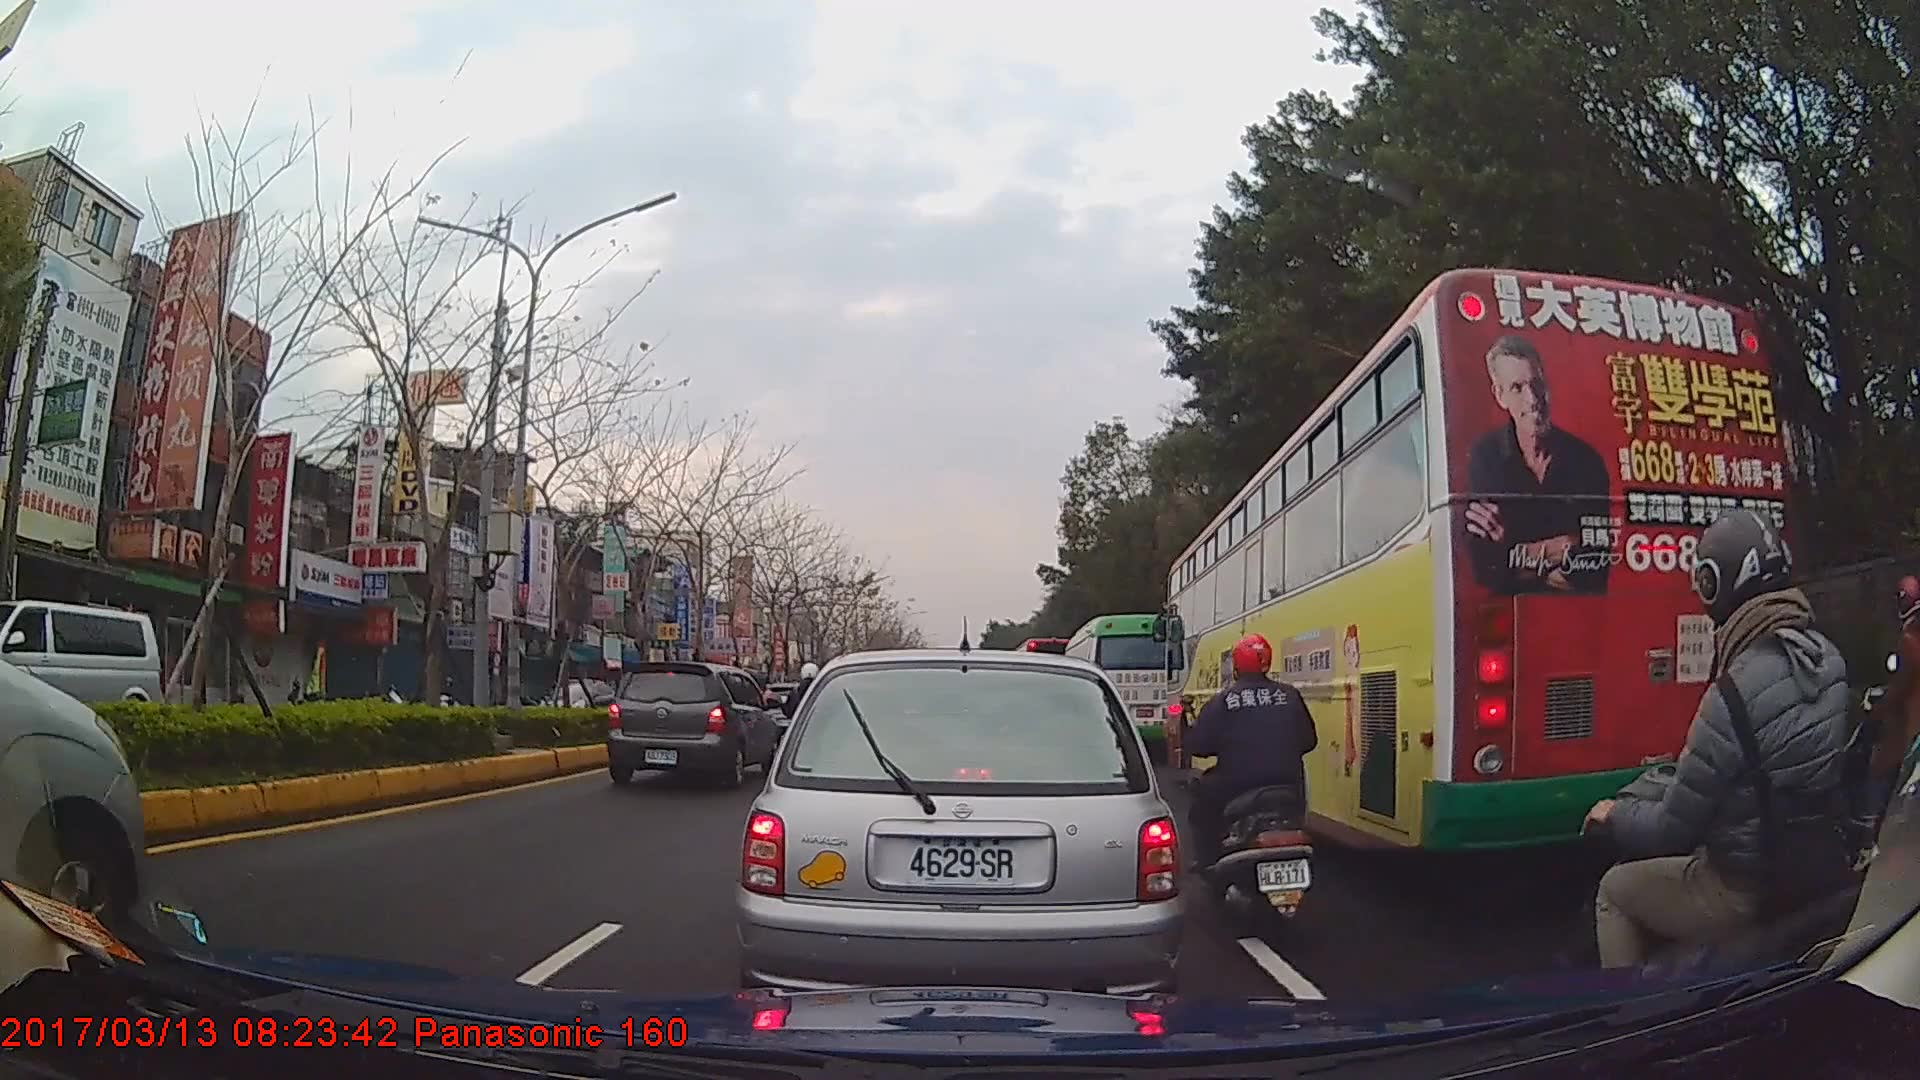rider: (1582, 506, 1880, 1050), (1176, 630, 1326, 944), (1815, 575, 1920, 880), (779, 663, 830, 781), (435, 677, 457, 708)
vehicle: (1159, 267, 1789, 875), (733, 649, 1185, 1018), (604, 662, 779, 787), (0, 598, 163, 725), (1059, 612, 1185, 762)
